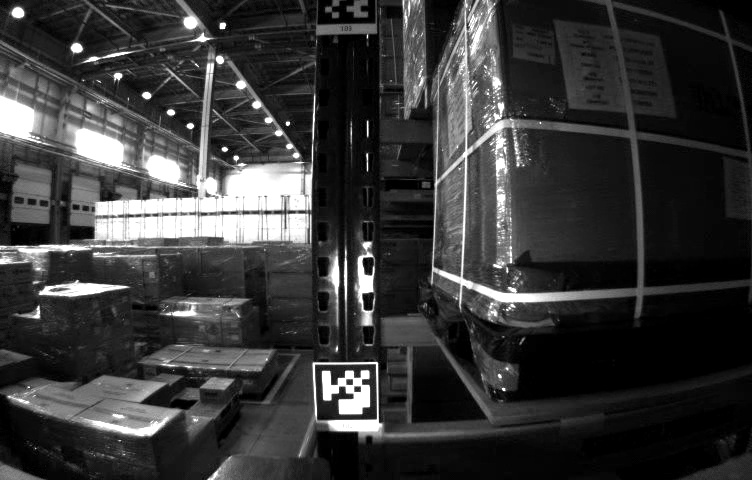True Barcode: (511, 22, 554, 67)
